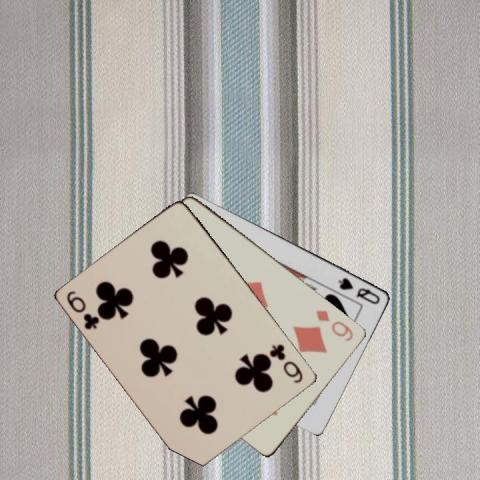6c: (64, 288, 102, 331), (267, 341, 304, 384)
6d: (313, 306, 355, 342)
Qs: (335, 275, 382, 306)
